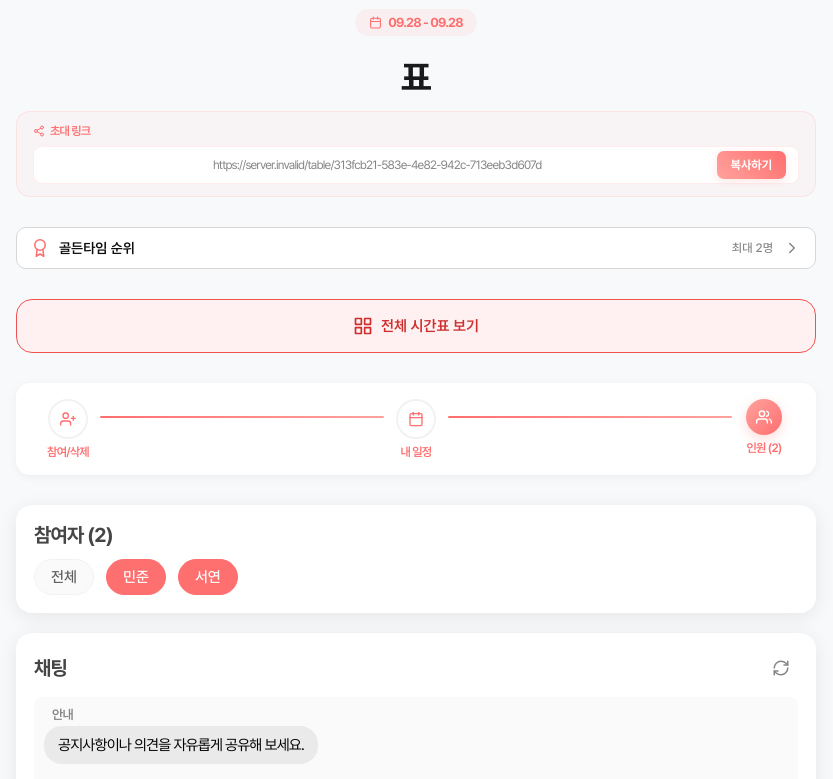
Test case: 표 화면(기존 화면) › 탭을 바꿔도 고른 사람들을 비우지 않는다(새 화면의 입력 모드와 같다)
Expected: the button "전체 시간표 보기" is enabled, [16,299,816,353]
Click the text "내 일정": (416, 452) [401,445,431,459]
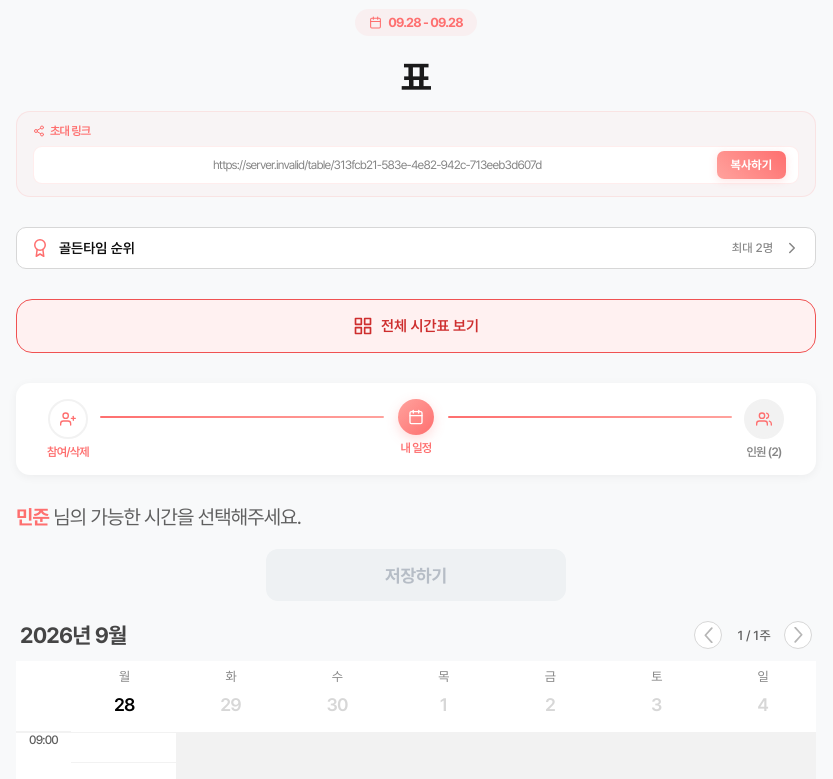
Expected: the text "민준 님의 가능한 시간을 선택해주세요." is shown, [16,505,301,529]
Click the text "인원 (2)": (764, 452) [746,445,782,459]
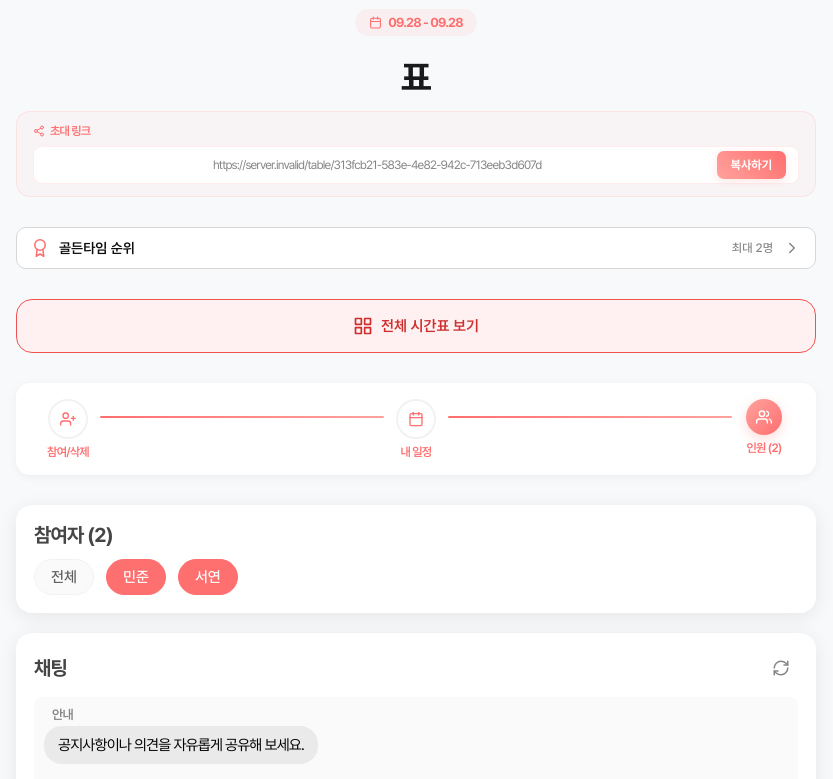
Expected: the heading "참여자 (2)" is shown, [34,523,113,547]
